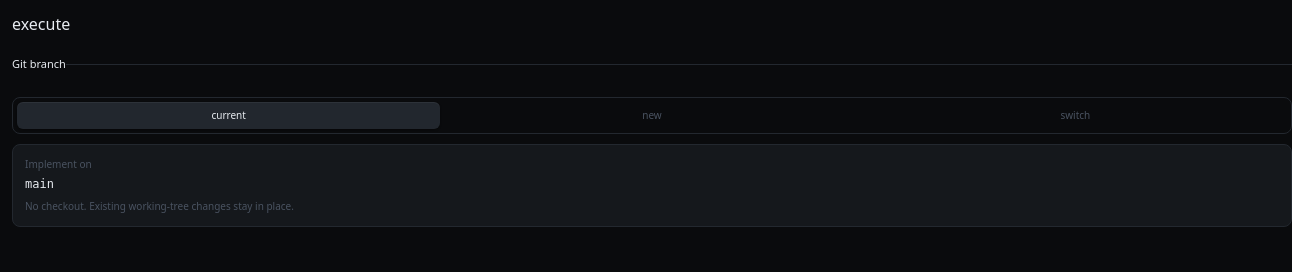
Test: ExecutionBranchSetup fieldset › switches panels across the three choices and shows the no-checkout note
Click the button "new" at (652, 115), box [440,102,864,128]
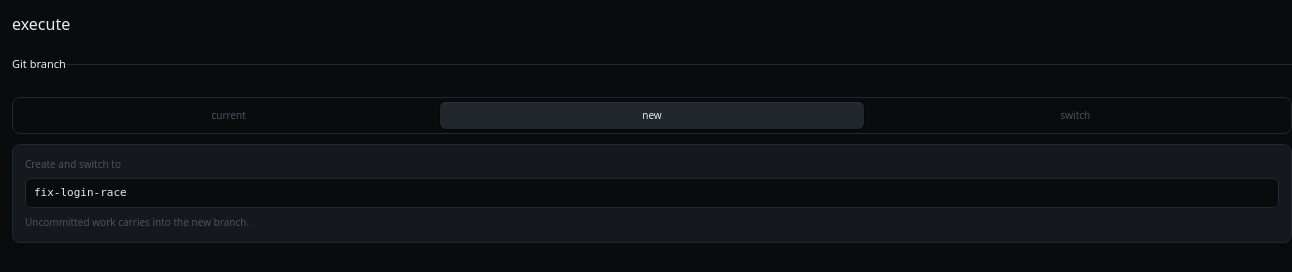
Now the field named "new branch name" holds "fix-login-race", box [25,178,1279,208]
Click the button "switch" at (1075, 115), box [864,102,1287,128]
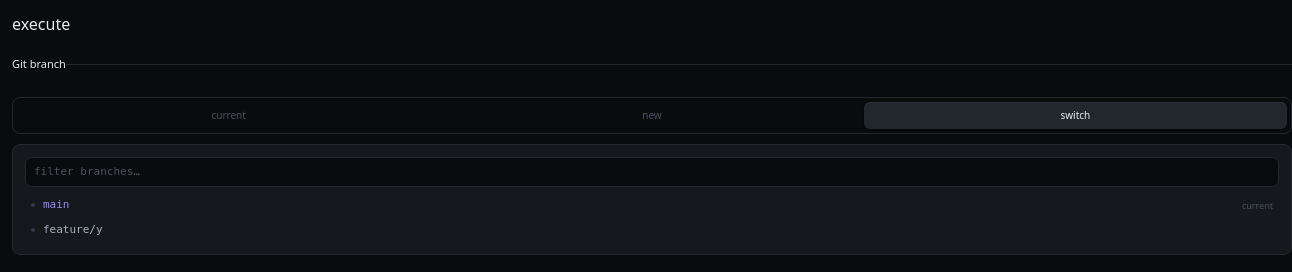
Expected: the text "No checkout. Existing working-tree changes stay in place." is not shown
Now the field named "filter branches" is shown, box [25,156,1279,187]
Click the button "current" at (229, 115), box [17,102,440,128]
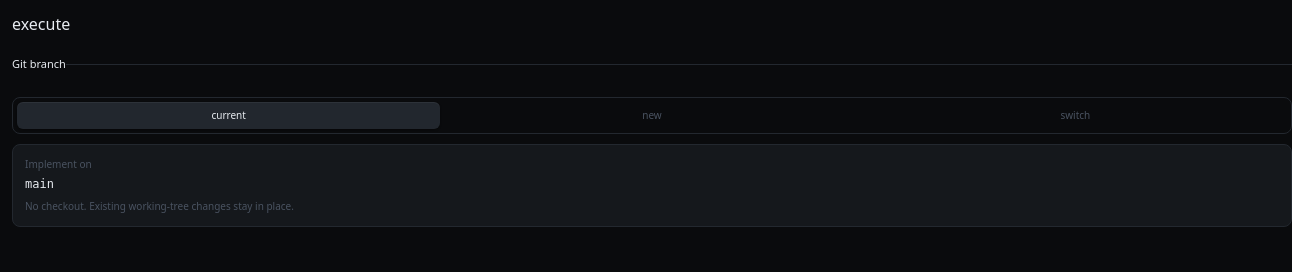
Now the text "Implement on" is shown, box [25,156,92,170]
